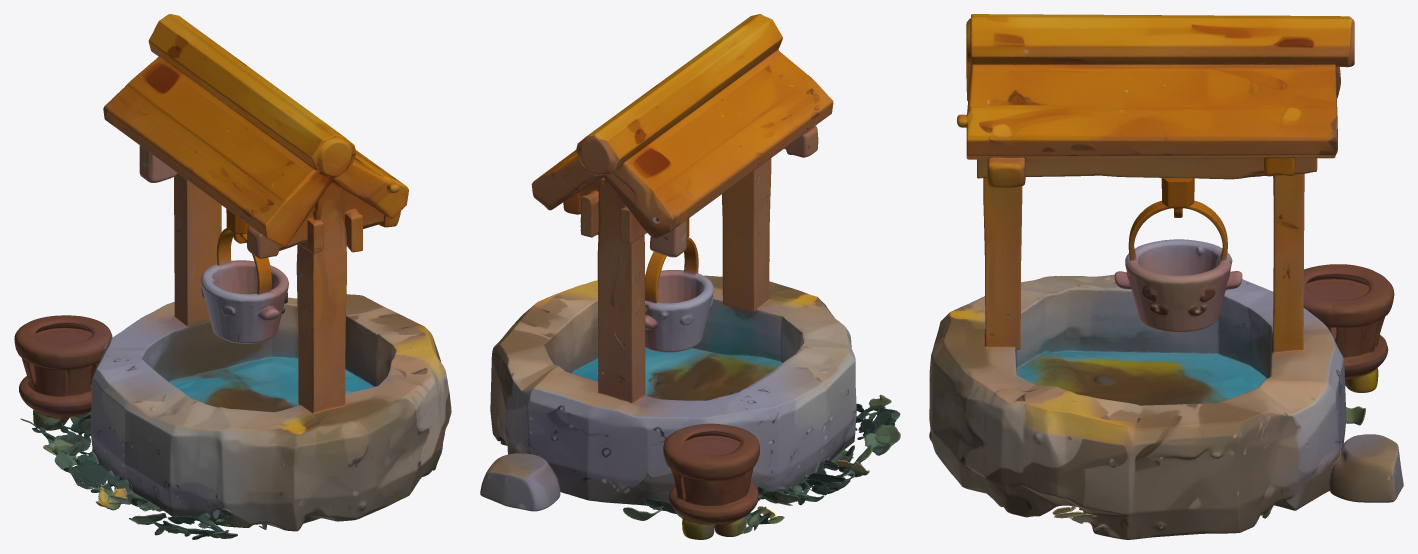
The model's file is well.glb.
The picture shows the model from 3 angles, left to right: view 1: azimuth 30°, elevation 25°; view 2: azimuth 150°, elevation 25°; view 3: azimuth 270°, elevation 25°; orthographic projection. The views are drawn at different scales.
Visible parts, largest first — view 1: tripo_node_64e85d63-d27a-4fcd-b070-38d4ecd7175d; view 2: tripo_node_64e85d63-d27a-4fcd-b070-38d4ecd7175d; view 3: tripo_node_64e85d63-d27a-4fcd-b070-38d4ecd7175d.
Part boxes in pixels (box(x1,y1,x2,y2)): tripo_node_64e85d63-d27a-4fcd-b070-38d4ecd7175d: box(14, 14, 451, 539); tripo_node_64e85d63-d27a-4fcd-b070-38d4ecd7175d: box(480, 14, 900, 539); tripo_node_64e85d63-d27a-4fcd-b070-38d4ecd7175d: box(929, 14, 1403, 539).
Bounding box in the file's own units: 0.9379 × 1 × 0.9723.
1 material, 1 textured.
